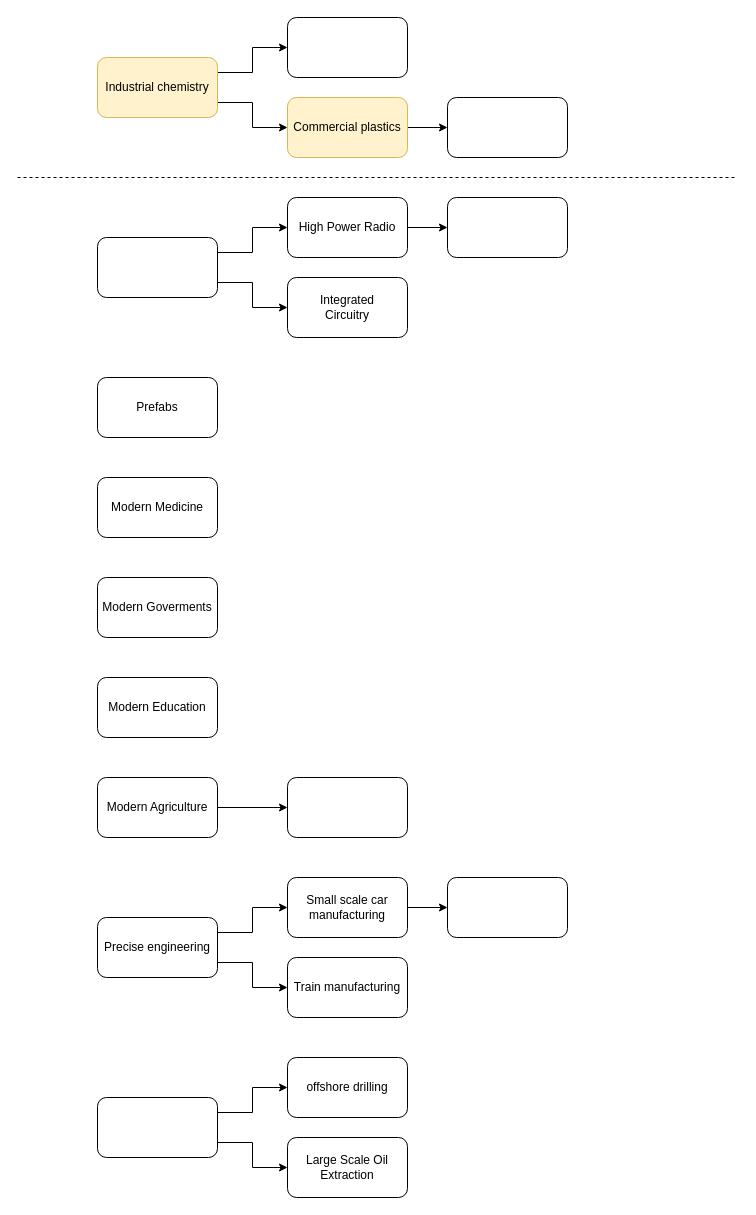
The diagram is 756 pixels wide and 1215 high, and some of its shapes have lost their labels. The box of each missing label's shape, as (x1, y1, x2, y2) in pixels:
Experimental Electronics: (96, 236, 218, 298)
Greenhouse experiments: (286, 776, 408, 838)
Industrial Oil extraction: (96, 1096, 218, 1158)
Large scale car manufacturing: (446, 876, 568, 938)
Large scale chemistry: (286, 16, 408, 78)
Large scale Plastic manufacturing: (446, 96, 568, 158)
TV: (446, 196, 568, 258)
